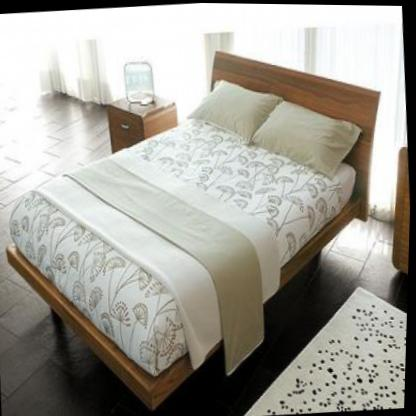Bed: (0, 34, 404, 416)
